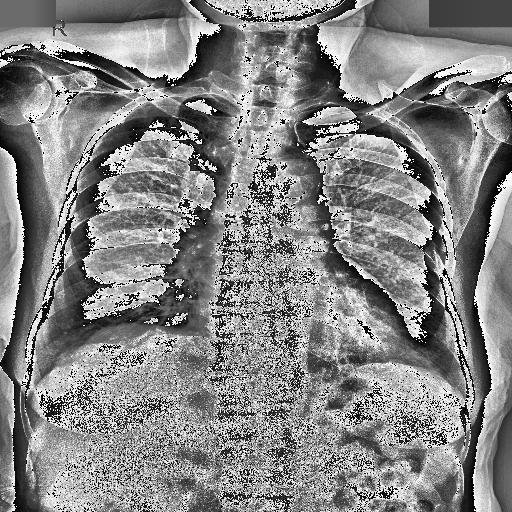0- Aortic enlargement: (266, 161, 332, 229), (248, 150, 324, 206), (256, 160, 318, 196)
3- Cardiomegaly: (180, 290, 422, 376), (198, 278, 402, 362)
